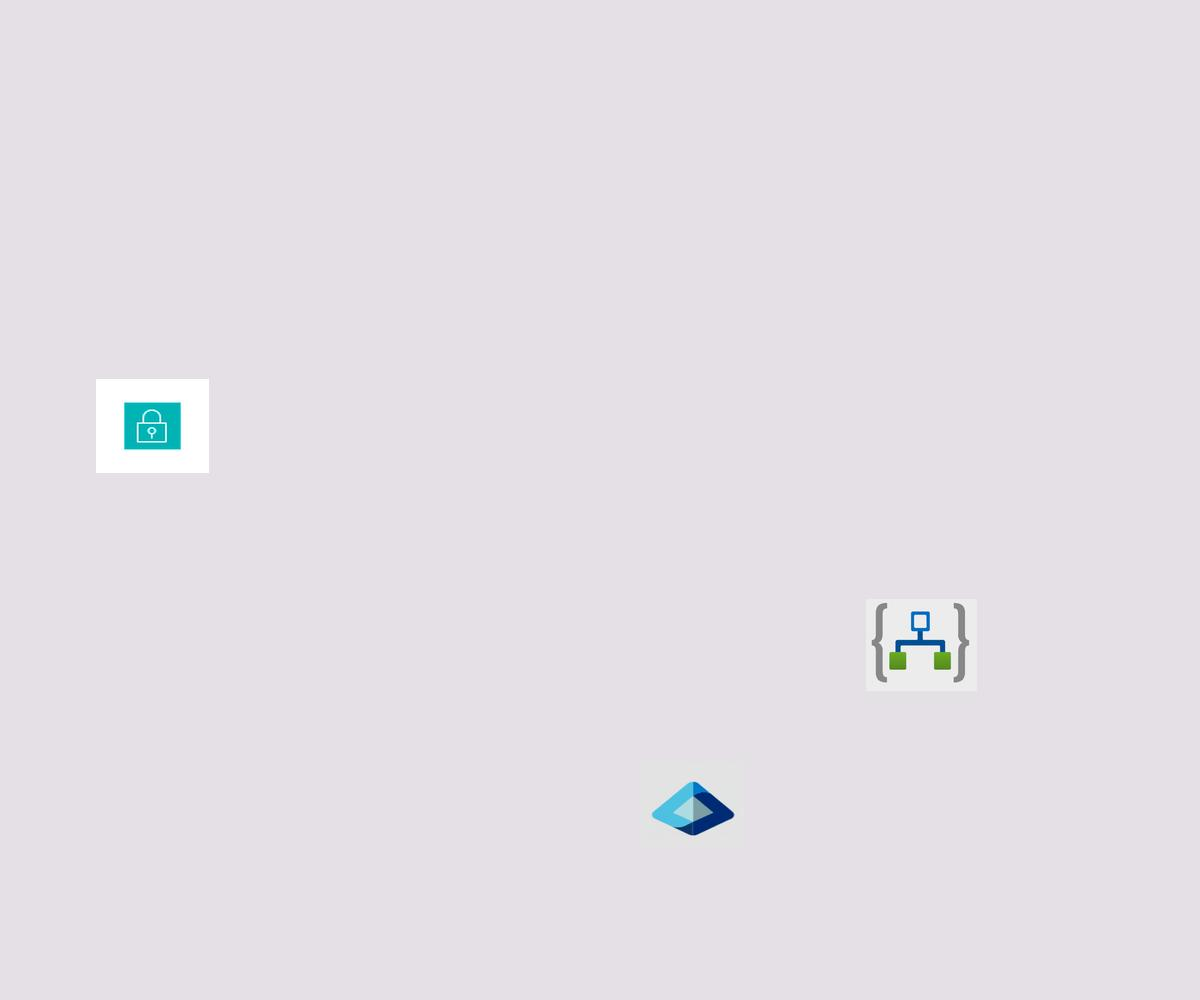AWS-Private-subnet: (96, 379, 209, 473)
Azure_integration-204-Logic-Apps: (866, 599, 977, 691)
Azure_microsoft_entra: (641, 762, 745, 849)
